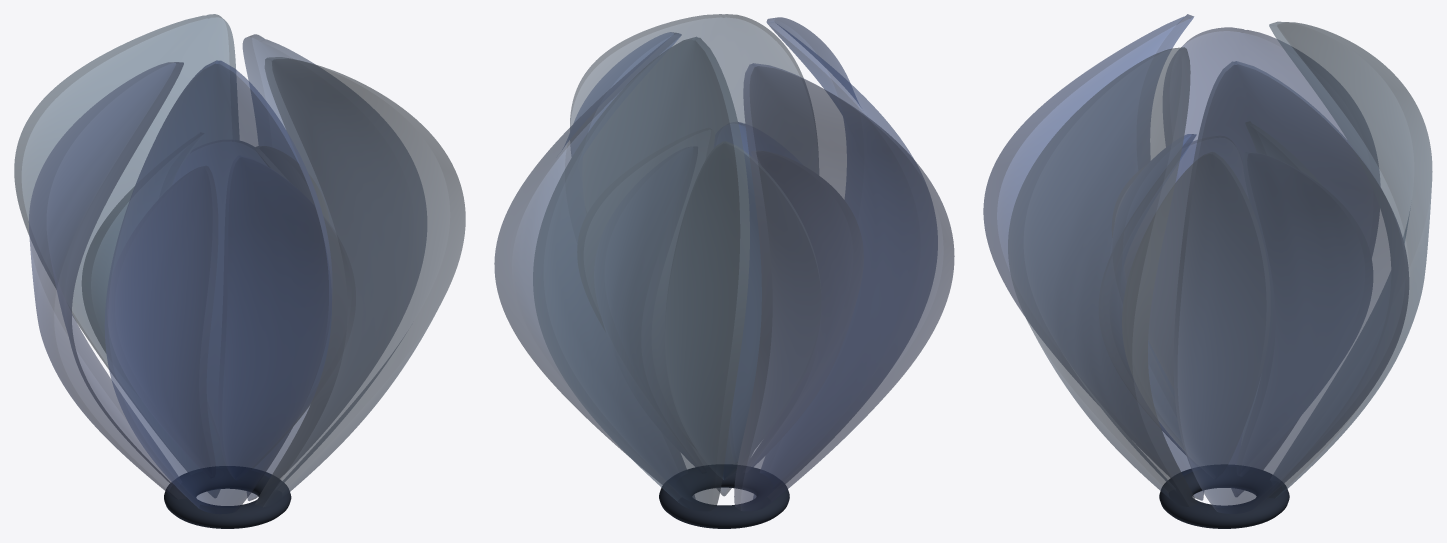
Rendered from aurelia_flower.glb.
3 renders of one model, left to right at view 1: azimuth 30°, elevation 25°; view 2: azimuth 150°, elevation 25°; view 3: azimuth 270°, elevation 25°, orthographic. The views are drawn at different scales.
Parts seen in each view (by area): view 1: Petal_04, Petal_05, Petal_02, Petal_01, Inner_Petal_04, Petal_03, Inner_Petal_03, Inner_Petal_02, Flower_Center, Inner_Petal_01, Inner_Petal_05; view 2: Petal_02, Petal_03, Inner_Petal_02, Petal_01, Petal_05, Petal_04, Inner_Petal_01, Inner_Petal_03, Inner_Petal_05, Flower_Center, Inner_Petal_04; view 3: Petal_01, Petal_05, Petal_04, Inner_Petal_05, Petal_02, Inner_Petal_01, Petal_03, Inner_Petal_04, Inner_Petal_03, Flower_Center, Inner_Petal_02.
Part boxes in pixels (x1,y1,x2,y2): Petal_04: [104, 60, 332, 513]; Petal_05: [255, 57, 465, 506]; Petal_02: [14, 14, 239, 497]; Petal_01: [242, 34, 426, 500]; Inner_Petal_04: [218, 155, 355, 479]; Petal_03: [28, 62, 185, 499]; Inner_Petal_03: [107, 166, 217, 477]; Inner_Petal_02: [81, 132, 203, 396]; Flower_Center: [164, 466, 291, 528]; Inner_Petal_01: [172, 140, 266, 443]; Inner_Petal_05: [249, 146, 331, 470]; Petal_02: [533, 36, 749, 510]; Petal_03: [734, 63, 954, 510]; Inner_Petal_02: [665, 141, 820, 480]; Petal_01: [494, 32, 694, 498]; Petal_05: [570, 14, 818, 496]; Petal_04: [753, 17, 937, 498]; Inner_Petal_01: [594, 146, 706, 473]; Inner_Petal_03: [742, 150, 863, 472]; Inner_Petal_05: [577, 128, 714, 449]; Flower_Center: [659, 464, 789, 528]; Inner_Petal_04: [714, 122, 801, 463]; Petal_01: [1173, 61, 1409, 513]; Petal_05: [1008, 47, 1197, 506]; Petal_04: [983, 14, 1203, 500]; Inner_Petal_05: [1122, 152, 1270, 479]; Petal_02: [1267, 21, 1432, 498]; Inner_Petal_01: [1237, 152, 1372, 476]; Petal_03: [1163, 27, 1380, 496]; Inner_Petal_04: [1099, 134, 1201, 469]; Inner_Petal_03: [1112, 136, 1248, 387]; Flower_Center: [1159, 465, 1289, 528]; Inner_Petal_02: [1241, 121, 1320, 442].
Size of the model in its own units: 2.67 by 3.08 by 2.58.
